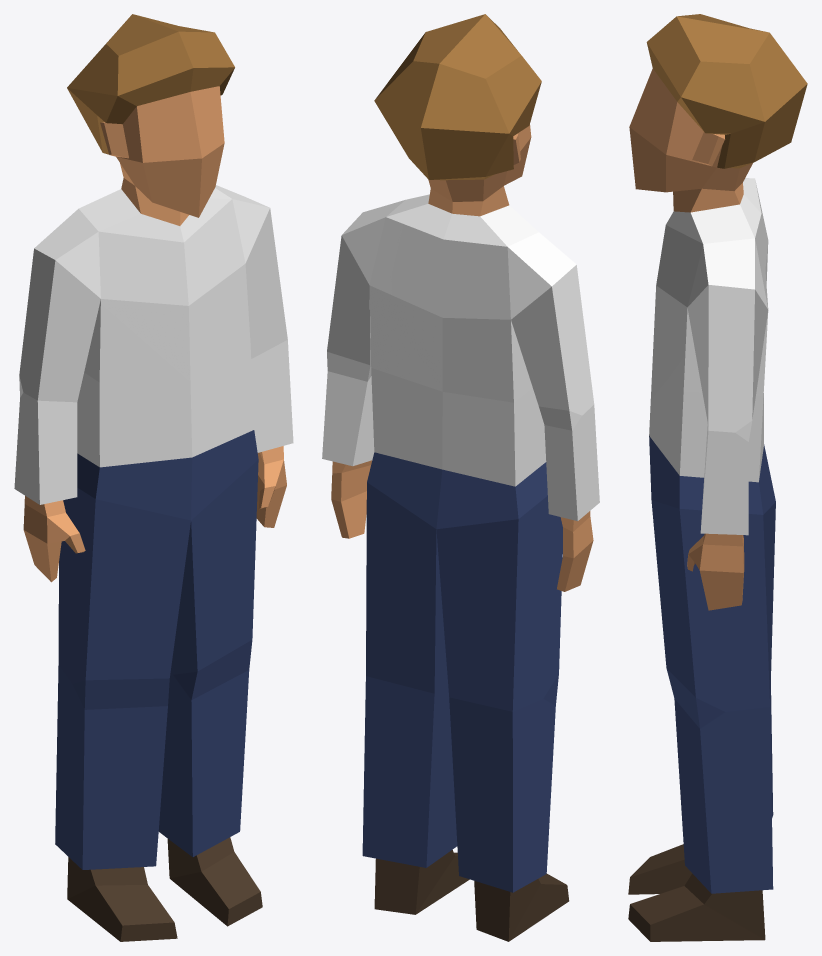
The model's file is boy-shirt.glb.
3 renders of one model, left to right at view 1: azimuth 30°, elevation 25°; view 2: azimuth 150°, elevation 25°; view 3: azimuth 270°, elevation 25°, orthographic.
Visible parts, largest first — view 1: boy-shirt; view 2: boy-shirt; view 3: boy-shirt.
Part boxes in pixels (x1,y1,x2,y2): boy-shirt: (14,14,293,941); boy-shirt: (322,14,599,941); boy-shirt: (628,14,807,941).
Size of the model in its own units: 0.3373 by 1.11 by 0.2023.
Materials: 1 (1 with a texture image).
